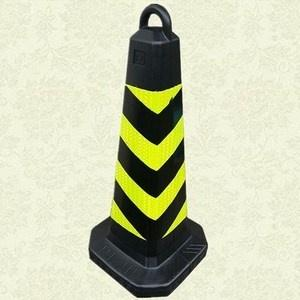cone_barrel: (90, 2, 208, 294)
